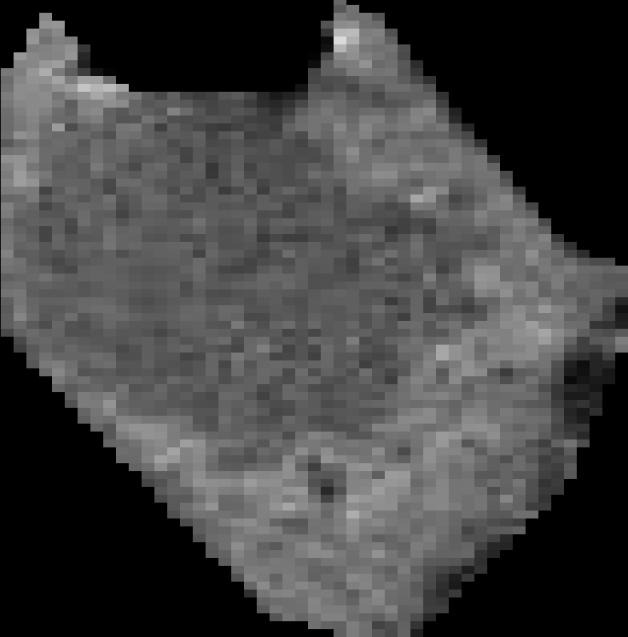tumor_less_chance: (1, 1, 628, 637)
